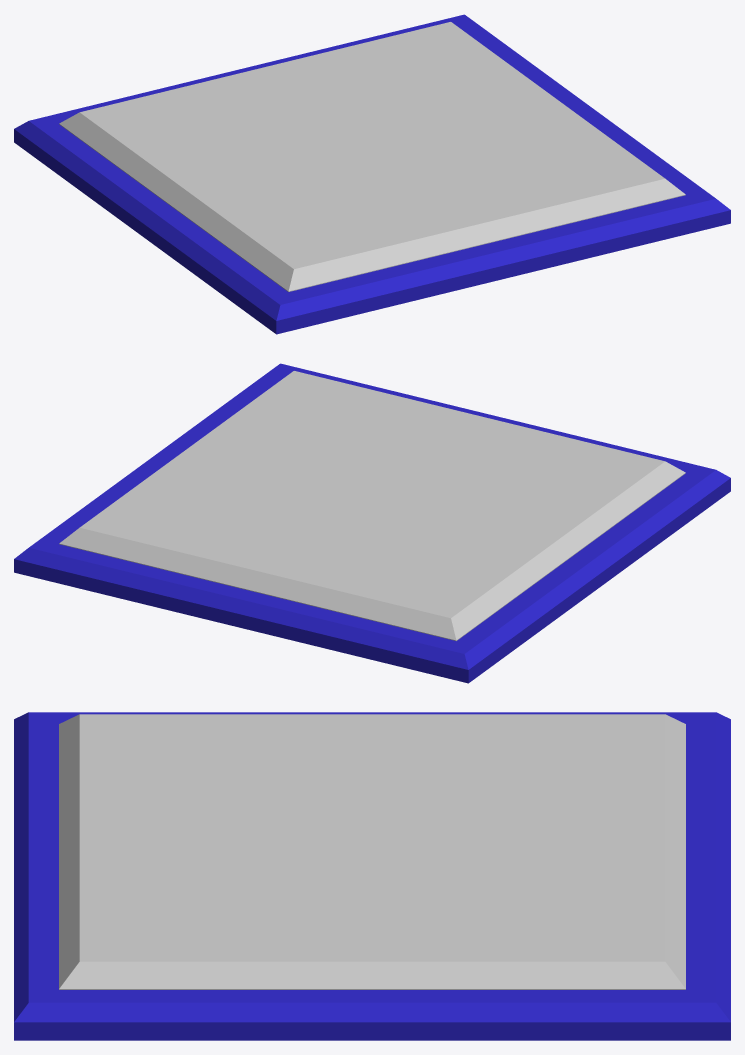
File: Plaque de pression.dae
3 renders of one model, top to bottom at view 1: azimuth 30°, elevation 25°; view 2: azimuth 150°, elevation 25°; view 3: azimuth 270°, elevation 25°, orthographic. The views are drawn at different scales.
Visible parts, largest first — view 1: Plane.011, Plane.007 (×2); view 2: Plane.011, Plane.007 (×2); view 3: Plane.011, Plane.007 (×2).
Part boxes in pixels (x1,y1,x2,y2): Plane.011: [59, 22, 685, 291]; Plane.007 (×2): [14, 14, 730, 334]; Plane.011: [59, 371, 685, 640]; Plane.007 (×2): [14, 363, 730, 683]; Plane.011: [59, 714, 685, 988]; Plane.007 (×2): [14, 712, 730, 1040].
Size of the model in its own units: 5.03 by 0.3966 by 5.03.
